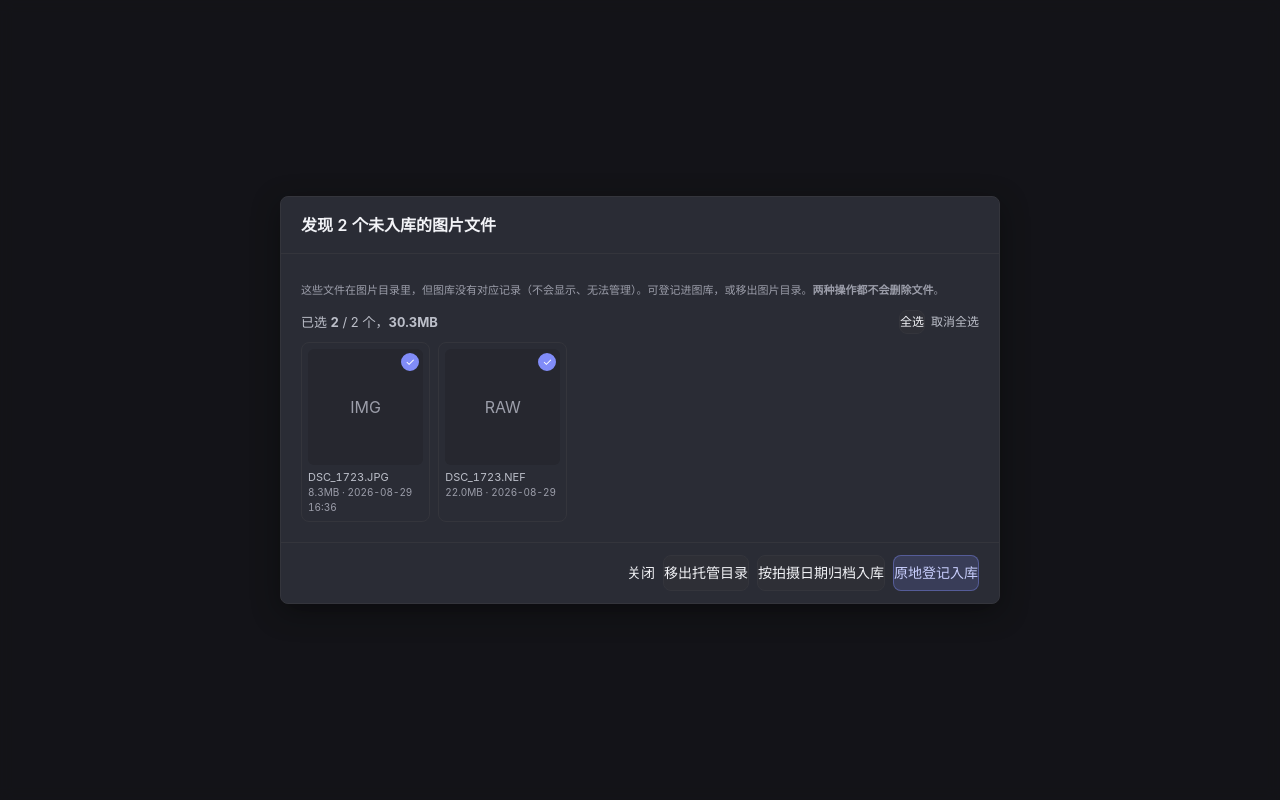
OrphanFilesPanel › 处理抛错：显示中文错误且面板不关闭
Click the button "原地登记入库".
click(936, 573)  # box top-left (893, 555), bottom-right (979, 591)
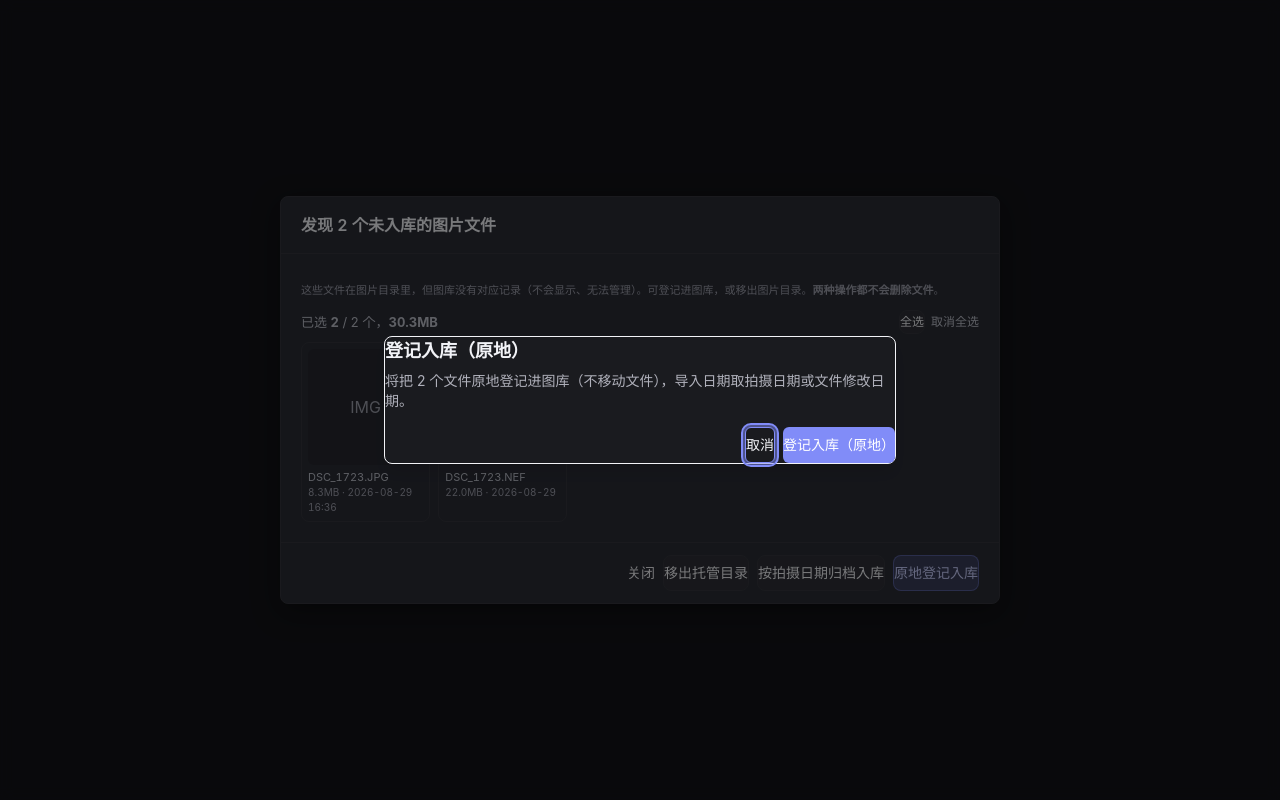
Click the button "登记入库（原地）".
click(839, 445)  # box top-left (783, 427), bottom-right (895, 463)
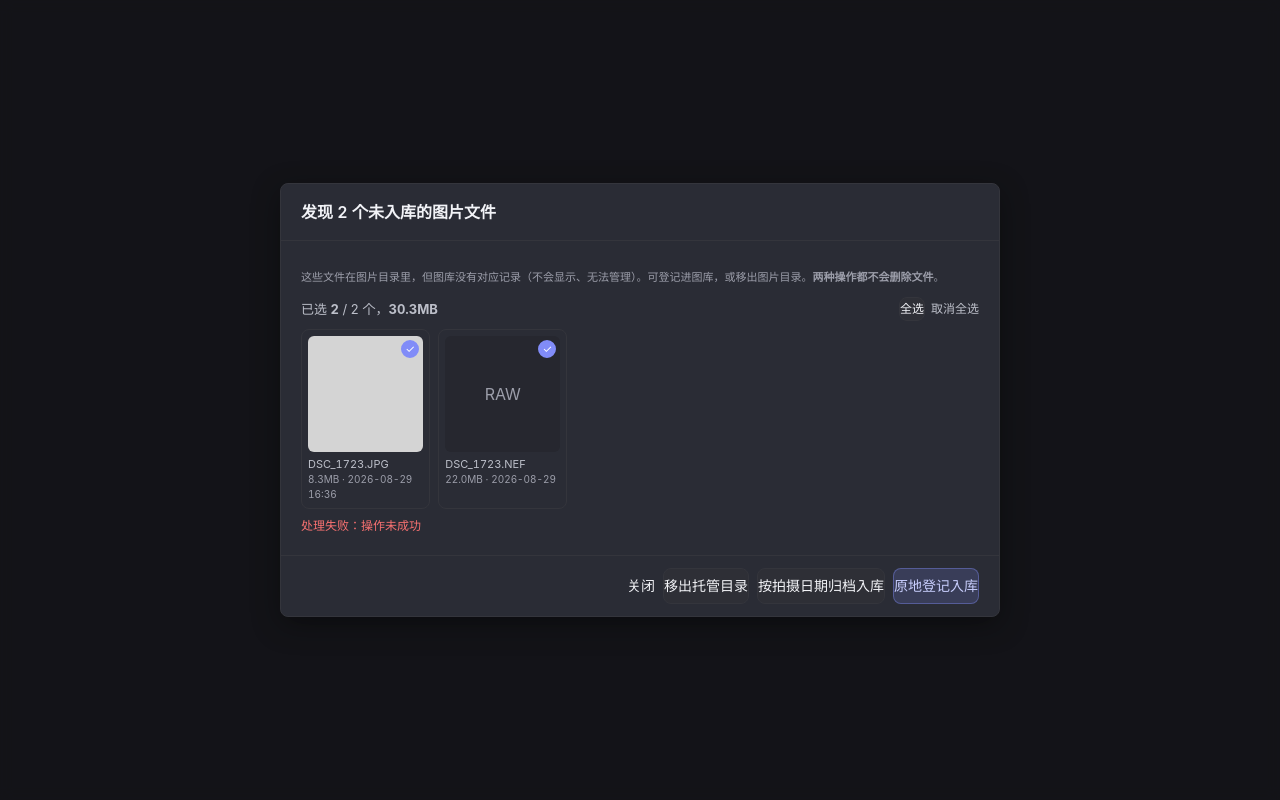
Expected: the text "发现 2 个未入库的图片文件" is shown, top-left (281, 184), bottom-right (999, 241)
Expected: the text "处理失败：操作未成功" is shown, top-left (301, 518), bottom-right (421, 533)
